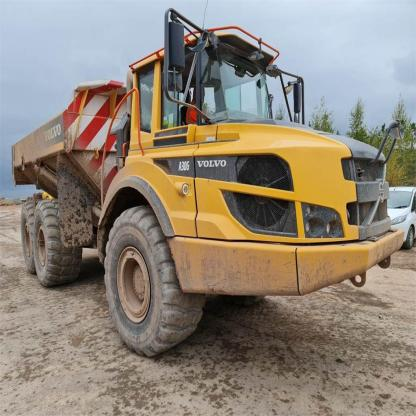dump_truck: (13, 7, 404, 360)
